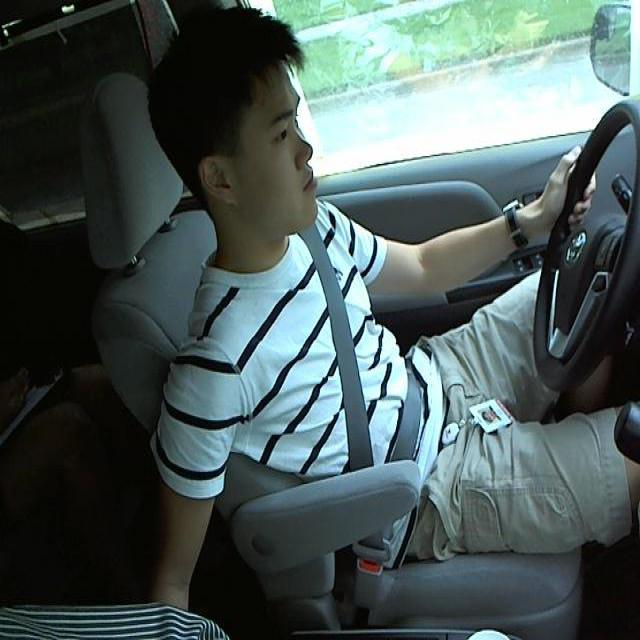seatbelt: (298, 228, 432, 487)
